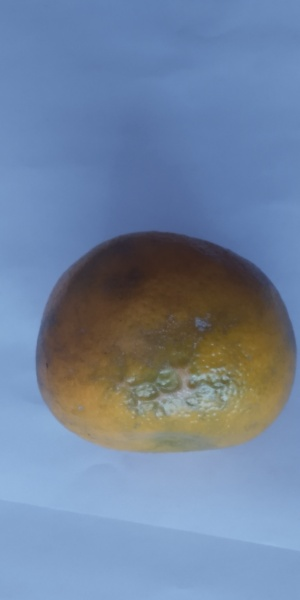BAD: (33, 228, 300, 450)
